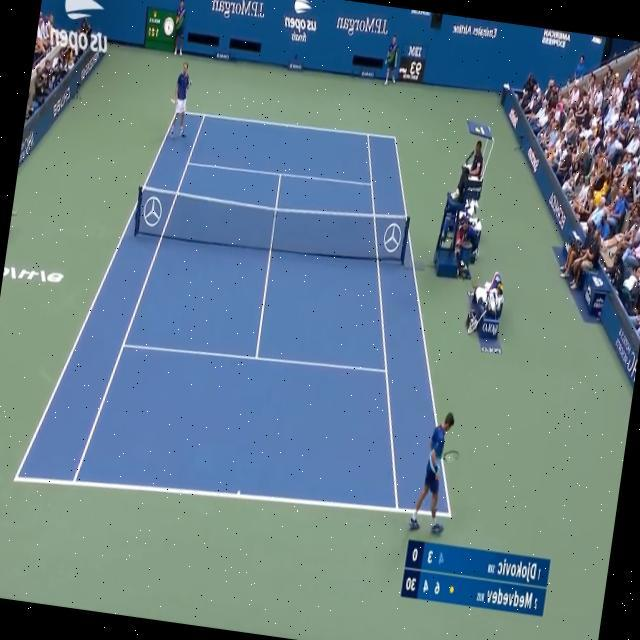Emirates: (472, 24, 498, 40)
